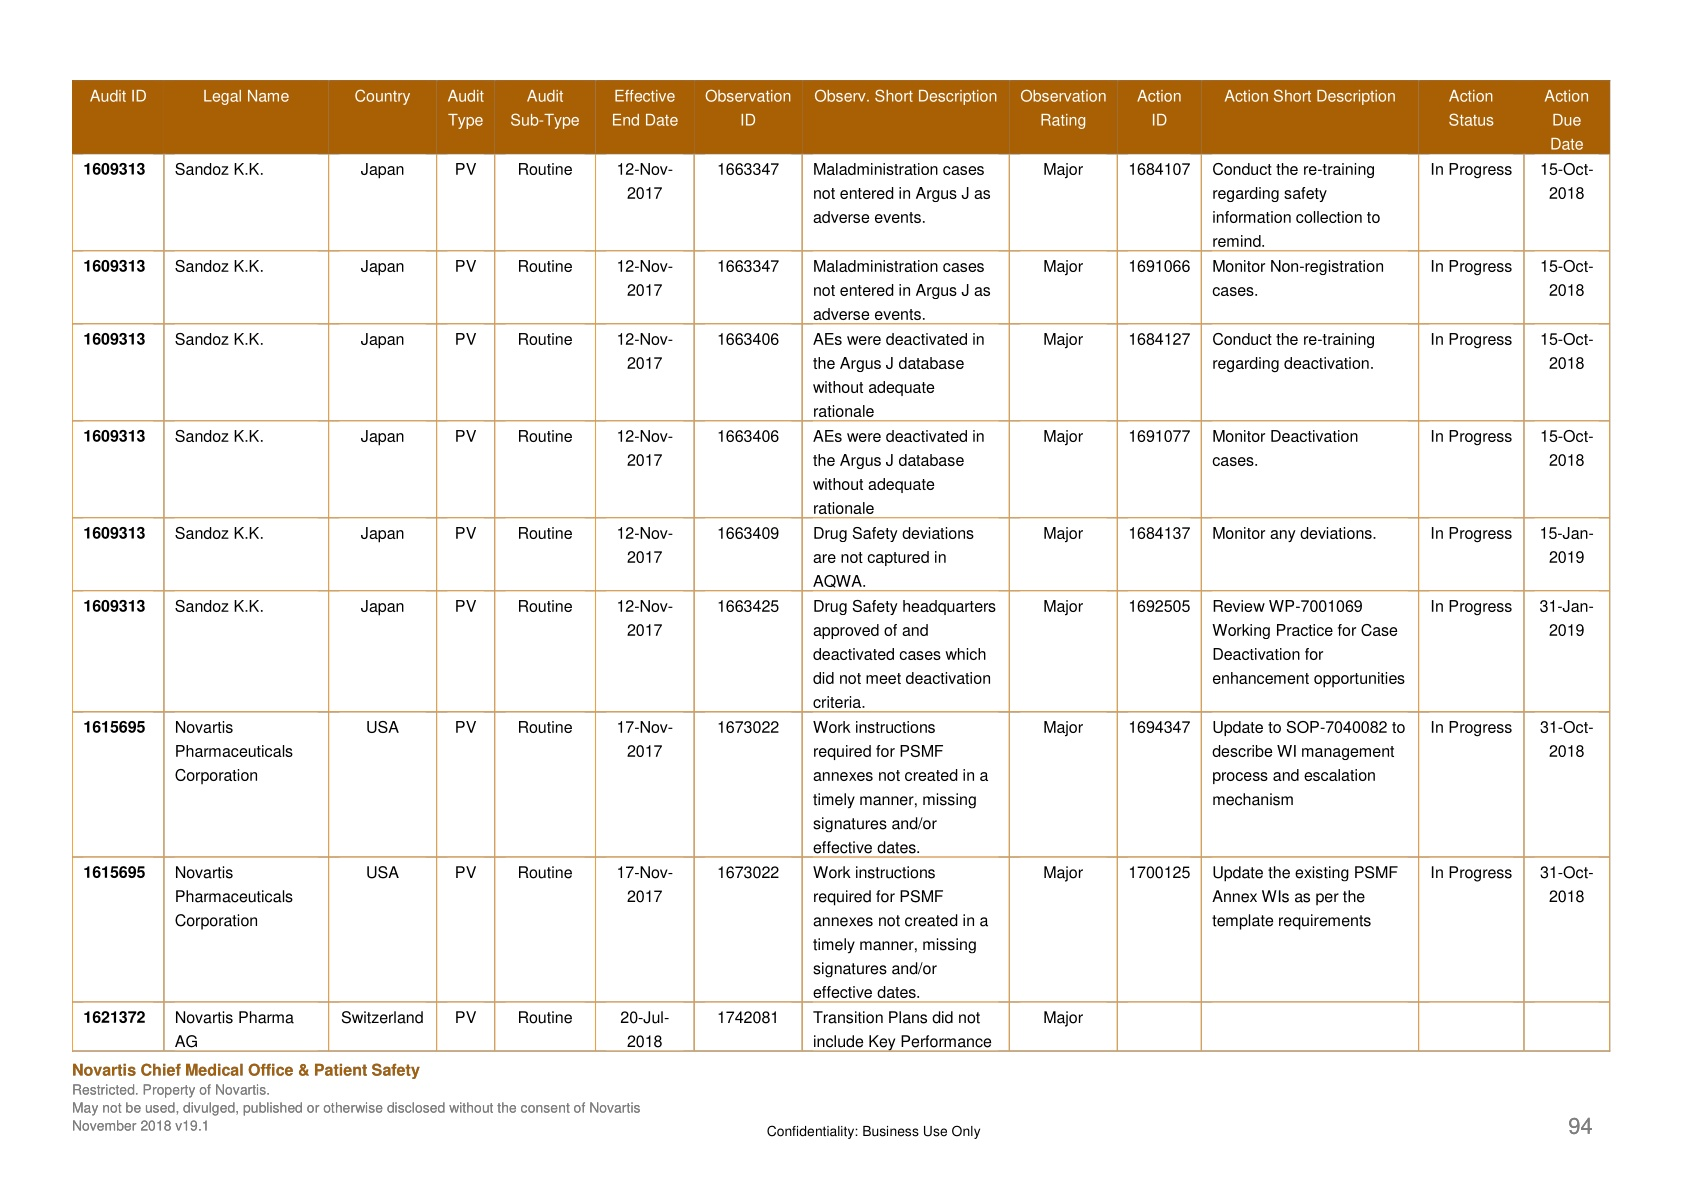full_lined: (70, 79, 1611, 1052)
